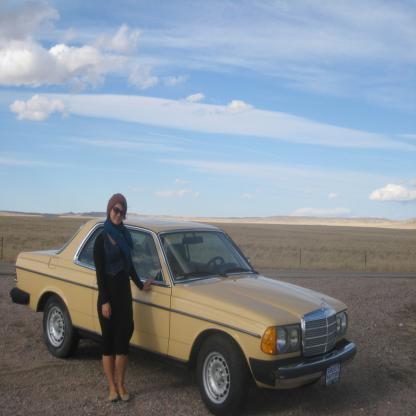Car: (10, 220, 357, 416)
